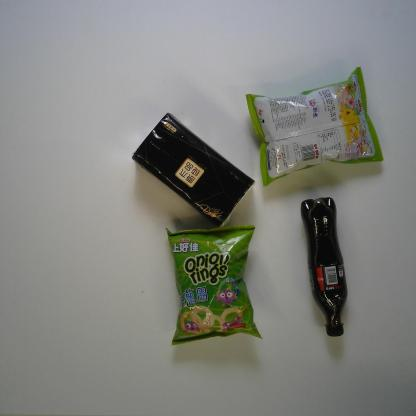Drink: (300, 196, 348, 338)
Puffed Food: (245, 65, 385, 187), (165, 224, 263, 346)
Tissue: (132, 112, 256, 228)
